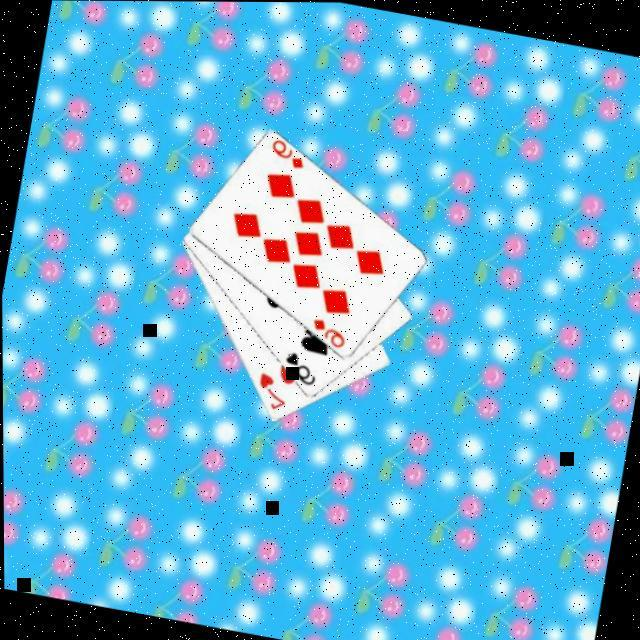6S: (276, 344, 321, 386)
7H: (250, 366, 292, 412)
9D: (304, 312, 350, 349), (264, 133, 309, 169)
